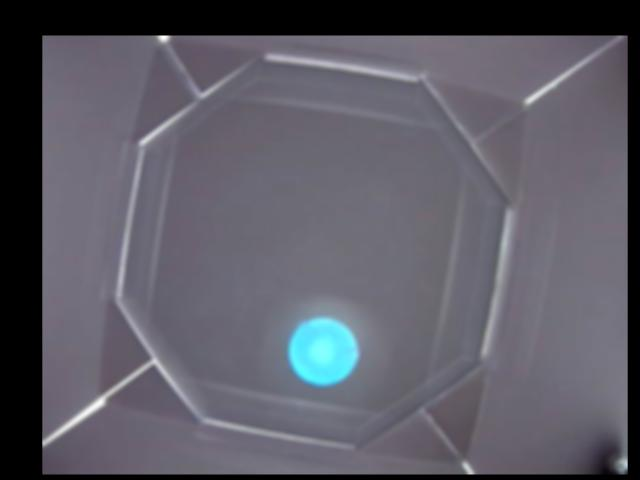Carrot: (287, 317, 358, 385)
